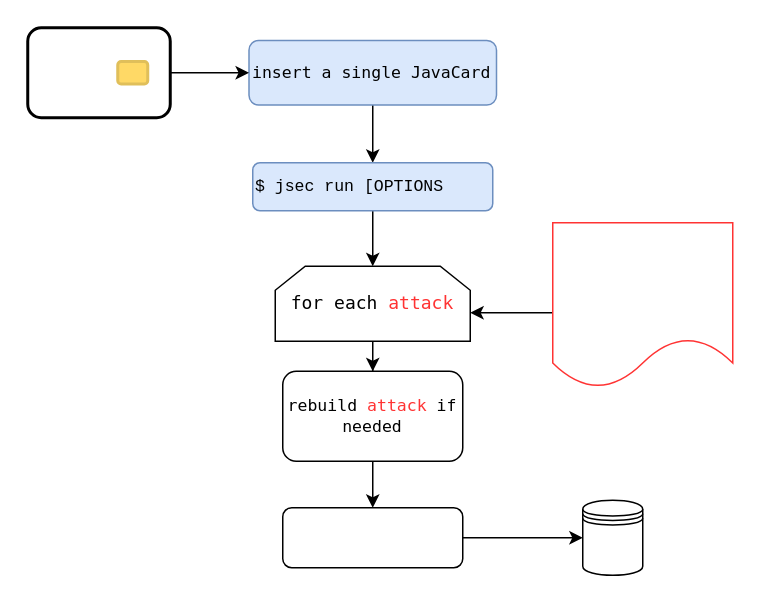
Image size: 759x608. Some labels were removed from this diagram. Each missing label, with the centre of its shape:
#registry.ini arraycopy arrayops baload_bastore ...: the point at 642,304
execute attack: the point at 372,537
